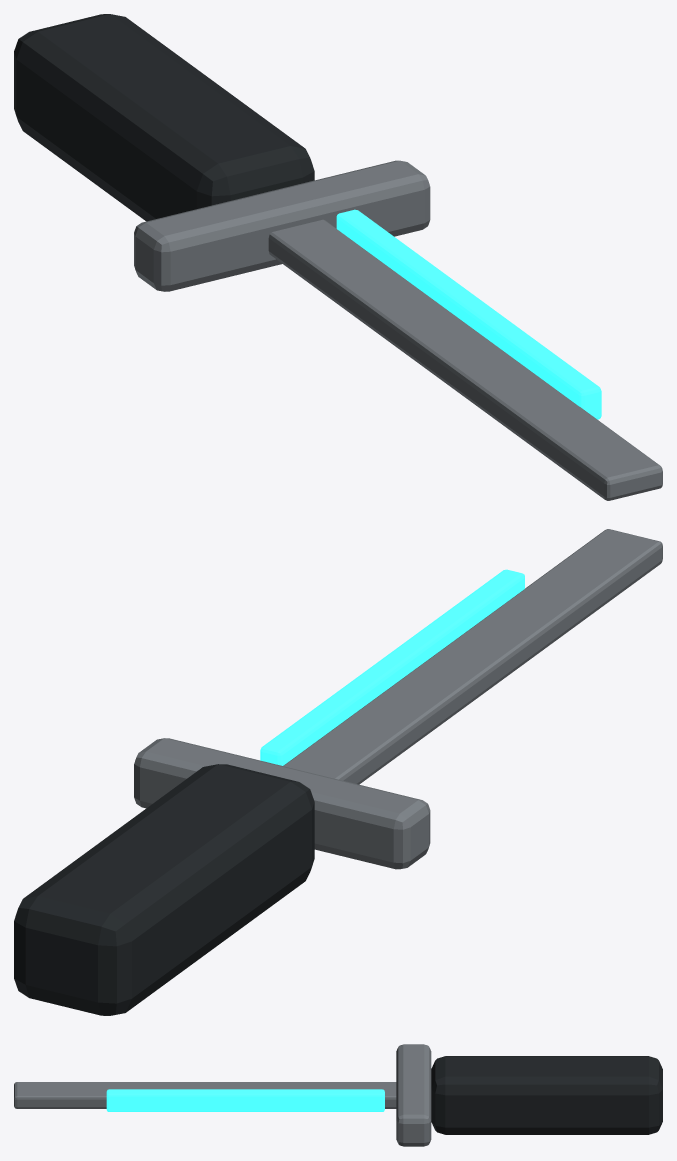
Rendered from knife.glb.
3 renders of one model, top to bottom at view 1: azimuth 30°, elevation 25°; view 2: azimuth 150°, elevation 25°; view 3: azimuth 270°, elevation 25°, orthographic. The views are drawn at different scales.
Visible parts, largest first — view 1: Grip.003, Blade, Guard, Blade spine; view 2: Grip.003, Blade, Guard, Blade spine; view 3: Grip.003, Blade spine, Blade, Guard.
Boxes of the visible parts, x1,y1,x2,y2 form: Grip.003: (14, 14, 314, 221); Blade: (268, 219, 662, 500); Guard: (134, 160, 430, 291); Blade spine: (336, 209, 601, 419); Grip.003: (14, 764, 314, 1015); Blade: (283, 529, 662, 784); Guard: (134, 738, 430, 869); Blade spine: (260, 569, 524, 765); Grip.003: (431, 1056, 662, 1134); Blade spine: (106, 1089, 384, 1111); Blade: (14, 1082, 396, 1108); Guard: (396, 1044, 431, 1146).
Size of the model in its own units: 0.31 by 0.11 by 1.12.
